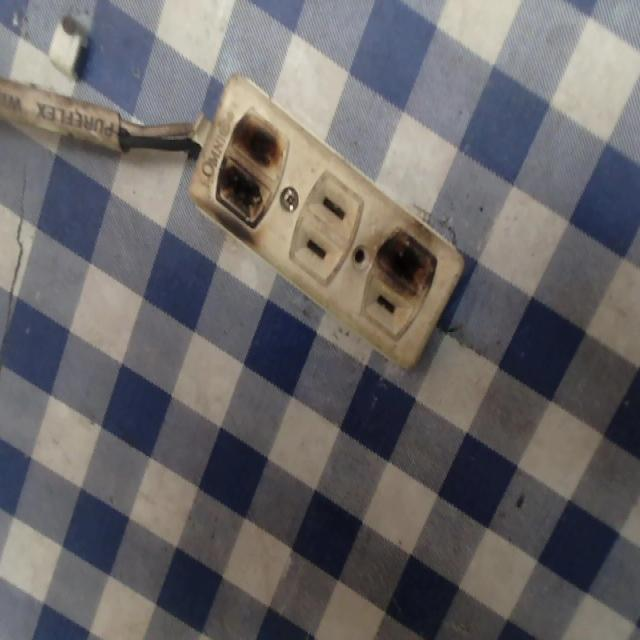-: (204, 103, 290, 240), (366, 221, 440, 308)
